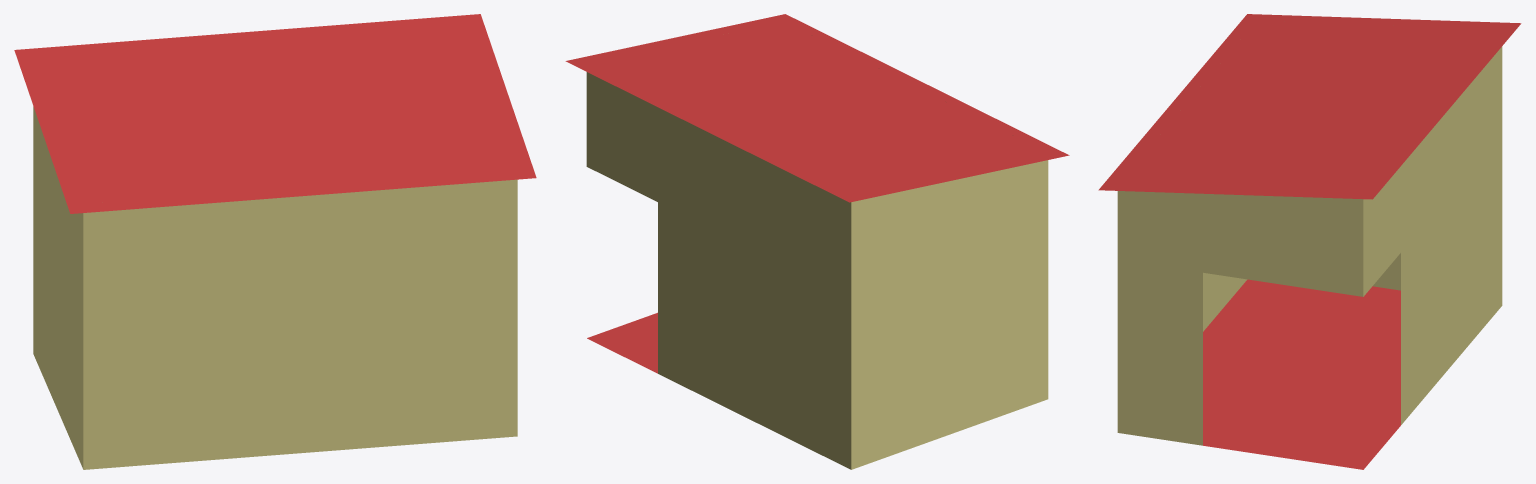
3 renders of one model, left to right at view 1: azimuth 30°, elevation 25°; view 2: azimuth 150°, elevation 25°; view 3: azimuth 270°, elevation 25°, orthographic. The views are drawn at different scales.
Bounding box in the file's own units: 16.86 × 13.85 × 10.06.
